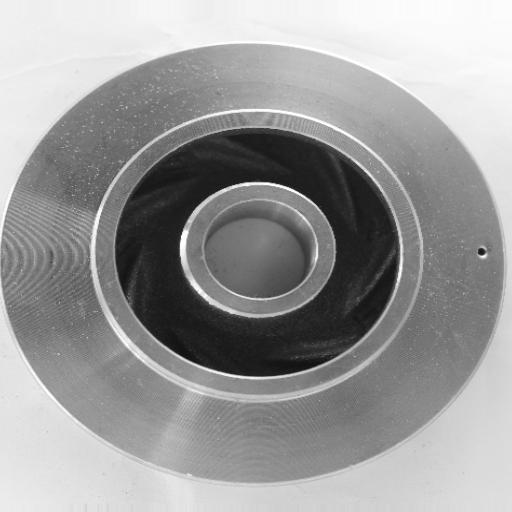pit: (467, 242, 491, 262)
unpolished_casting: (2, 36, 506, 488)
